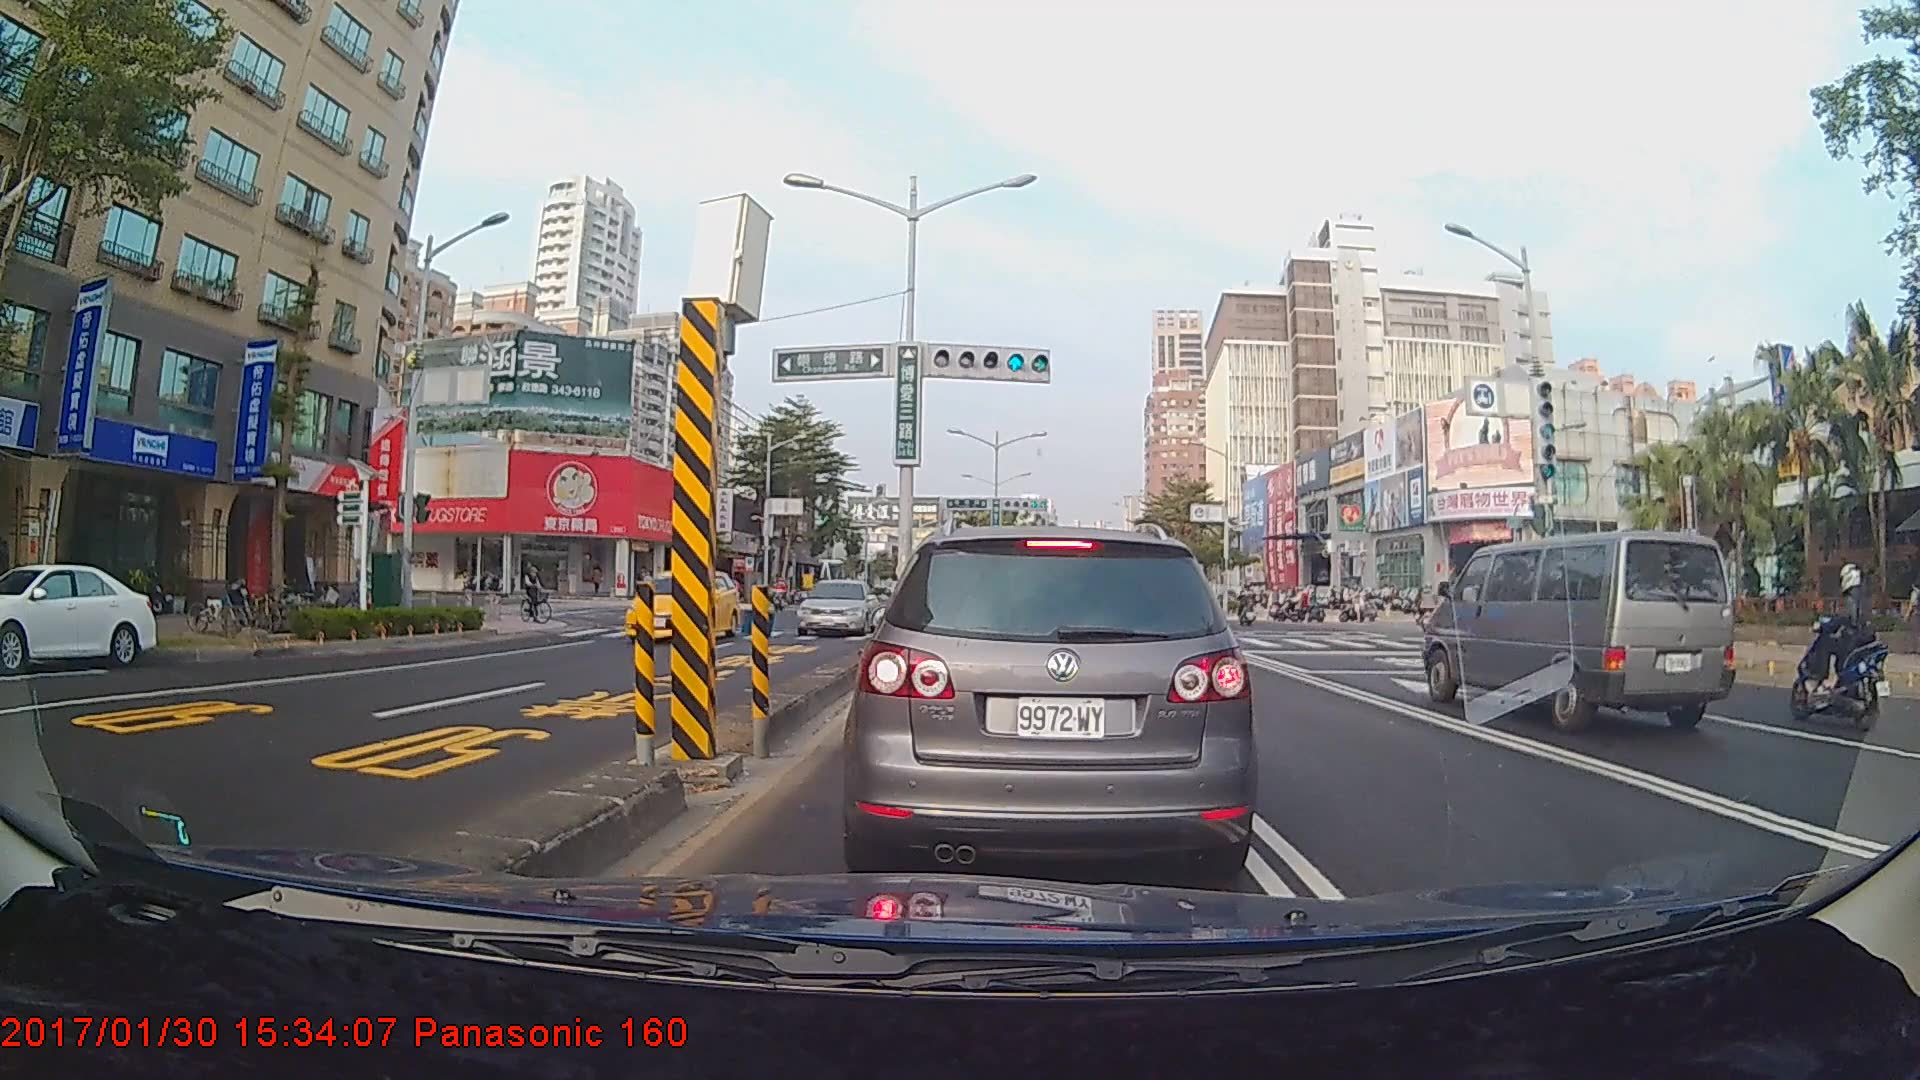rider: (1786, 560, 1886, 731), (518, 559, 561, 629), (1414, 582, 1441, 639), (1236, 582, 1263, 628)
vehicle: (853, 519, 1251, 878), (1418, 529, 1742, 725), (0, 561, 158, 671), (625, 566, 739, 642), (794, 578, 881, 636)
